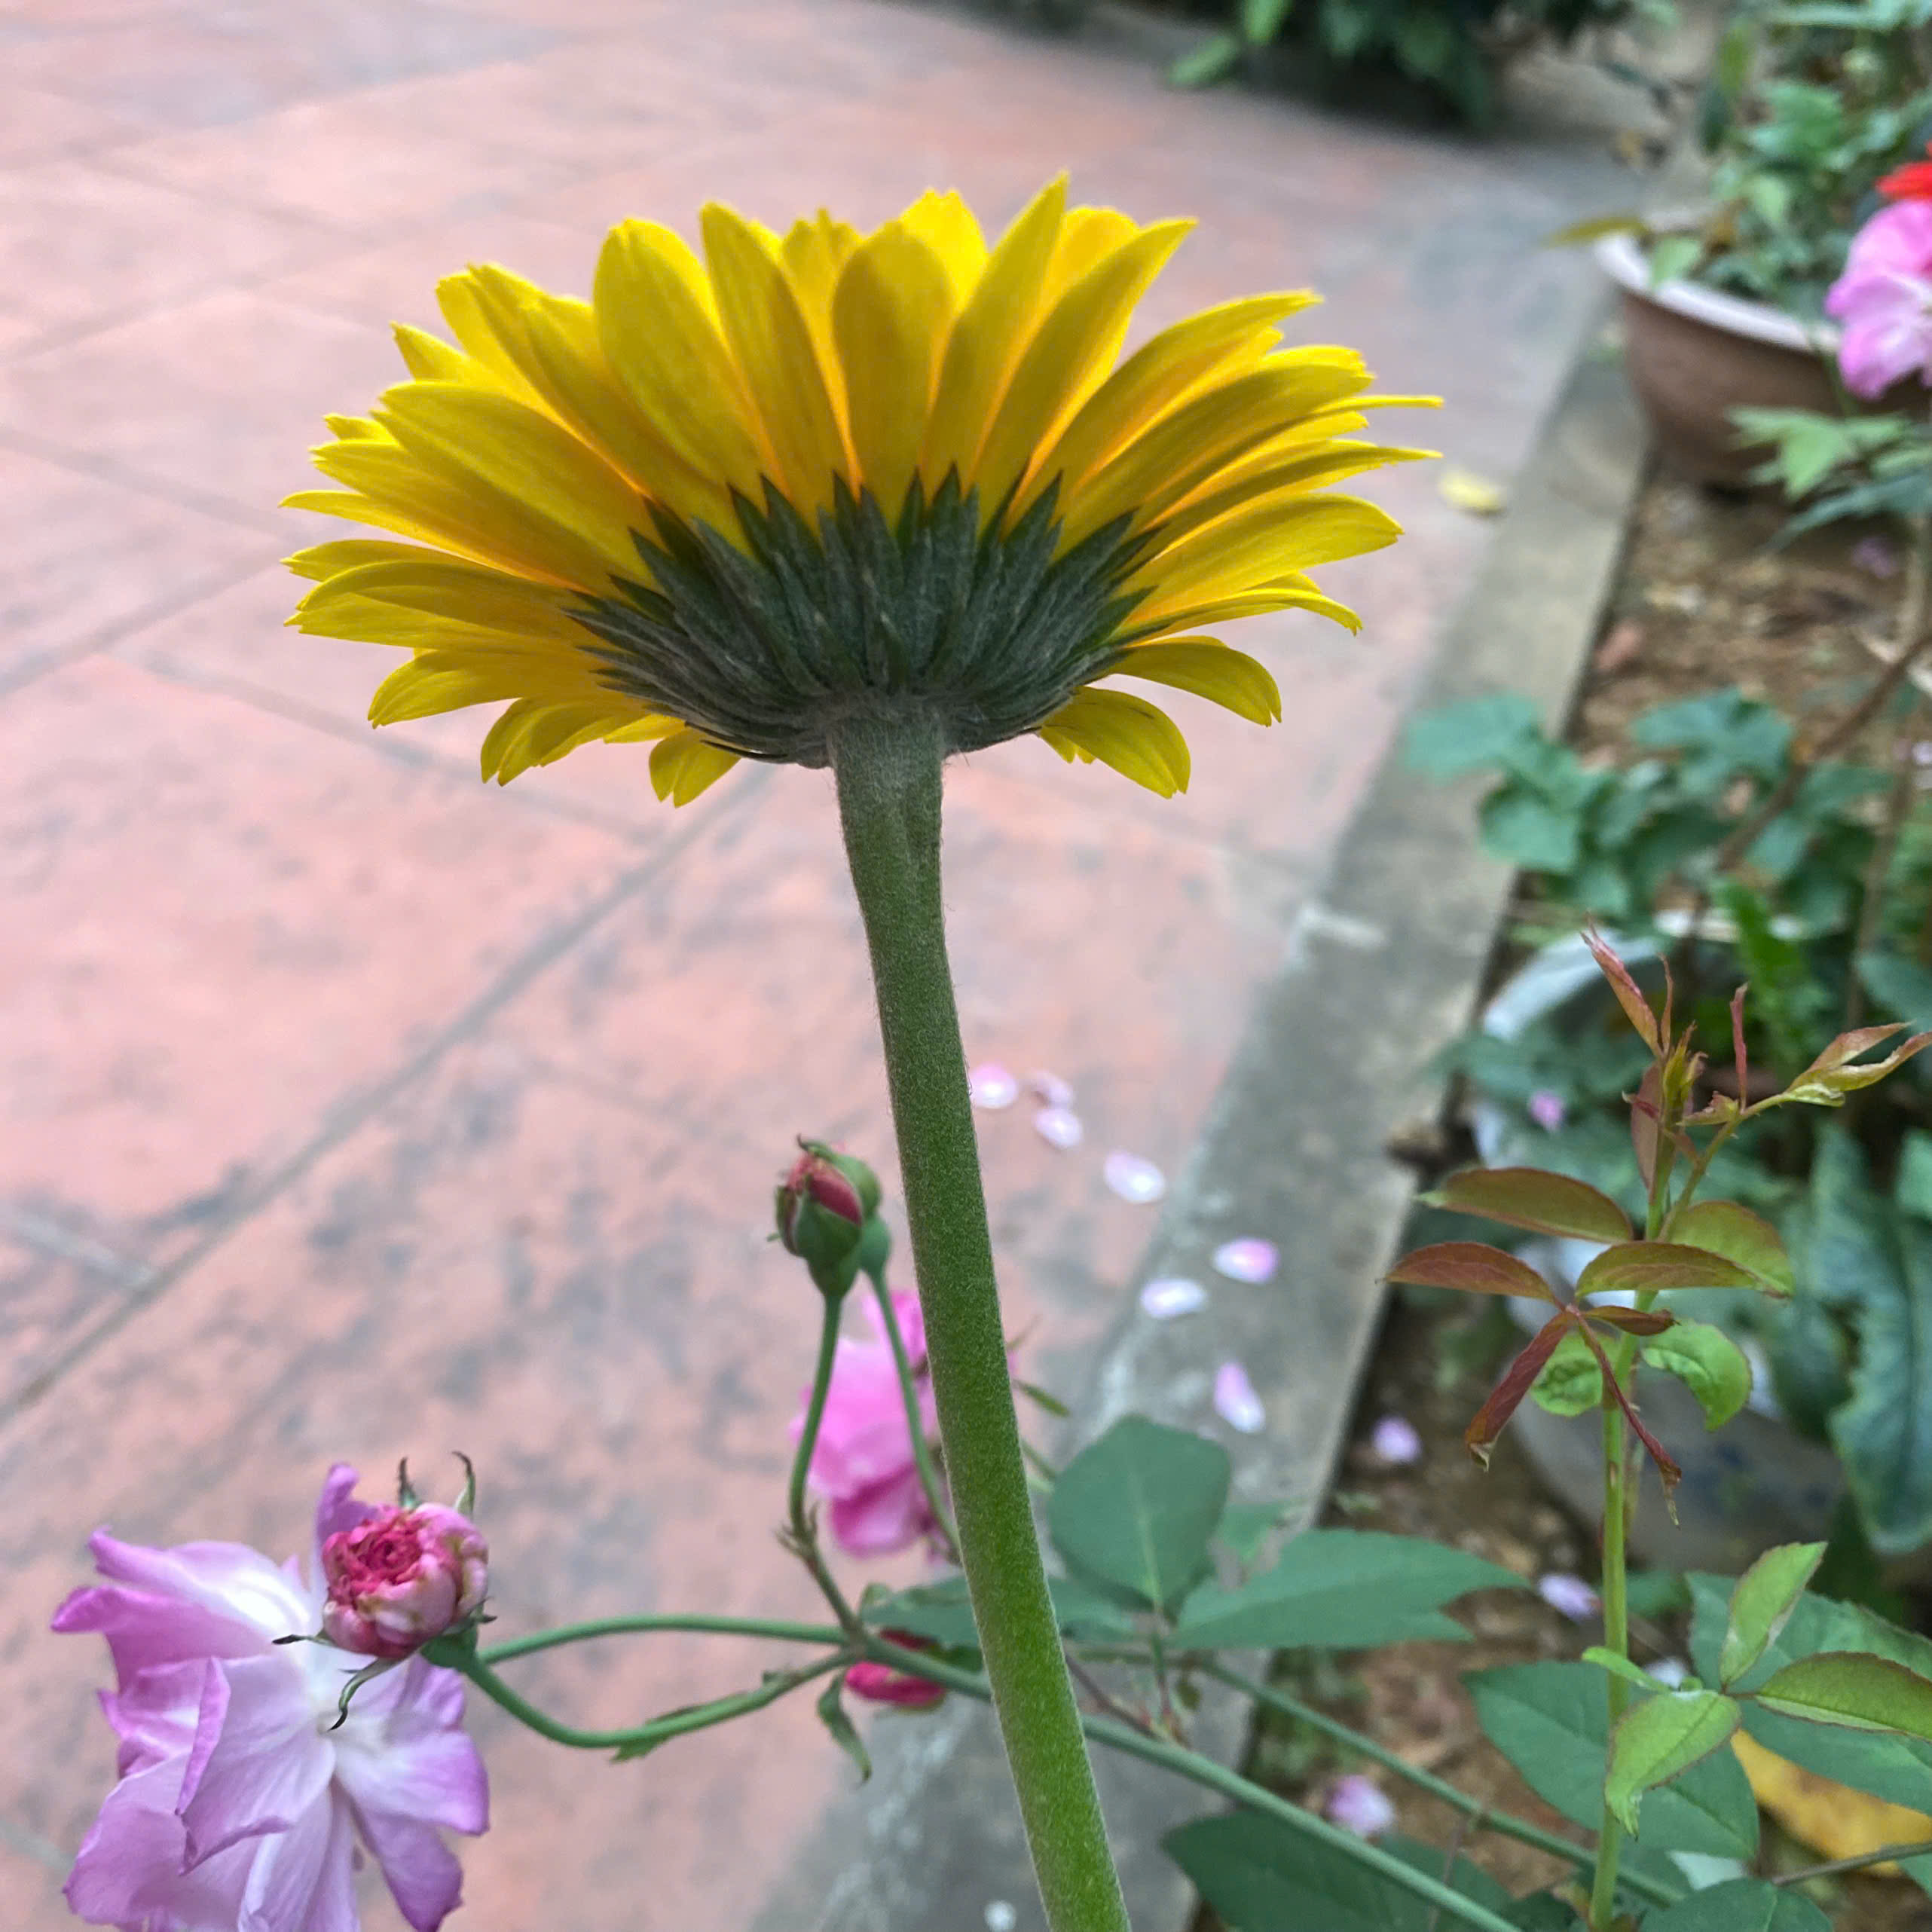hoa_huong_duong: (239, 0, 1481, 1154)
